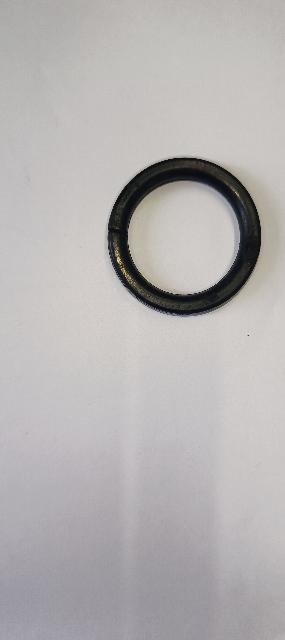4: (194, 287, 221, 309), (243, 225, 261, 255)
crack: (103, 214, 130, 245)
